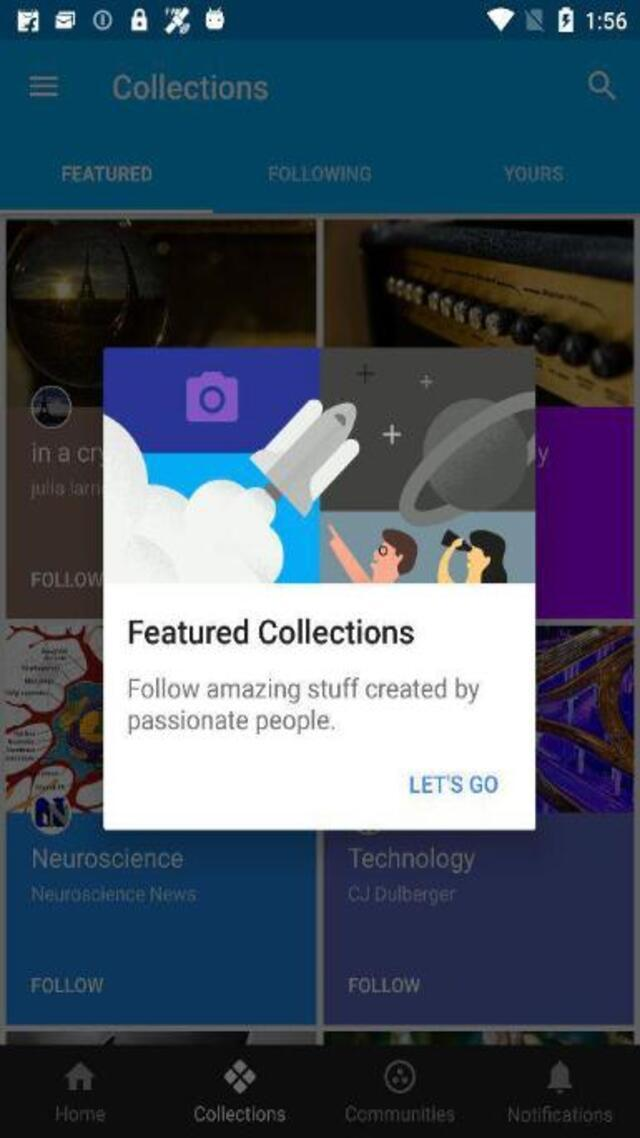Icon: (223, 1059, 256, 1093), (383, 1059, 415, 1093), (544, 1059, 572, 1093), (62, 1062, 94, 1090), (588, 70, 616, 102), (28, 74, 58, 97)
Image: (103, 346, 535, 581)
Text: (124, 675, 484, 704), (126, 617, 414, 649), (125, 709, 338, 740), (113, 74, 269, 100), (346, 846, 474, 872), (33, 846, 184, 867), (31, 885, 196, 900), (350, 884, 456, 905), (409, 772, 499, 792), (344, 1104, 454, 1120), (32, 442, 98, 468), (507, 1105, 613, 1121), (268, 166, 370, 182), (194, 1105, 285, 1121), (62, 166, 152, 182), (29, 480, 94, 502), (32, 568, 102, 588), (30, 977, 103, 993), (348, 977, 420, 993), (504, 166, 564, 182), (56, 1105, 104, 1121)
